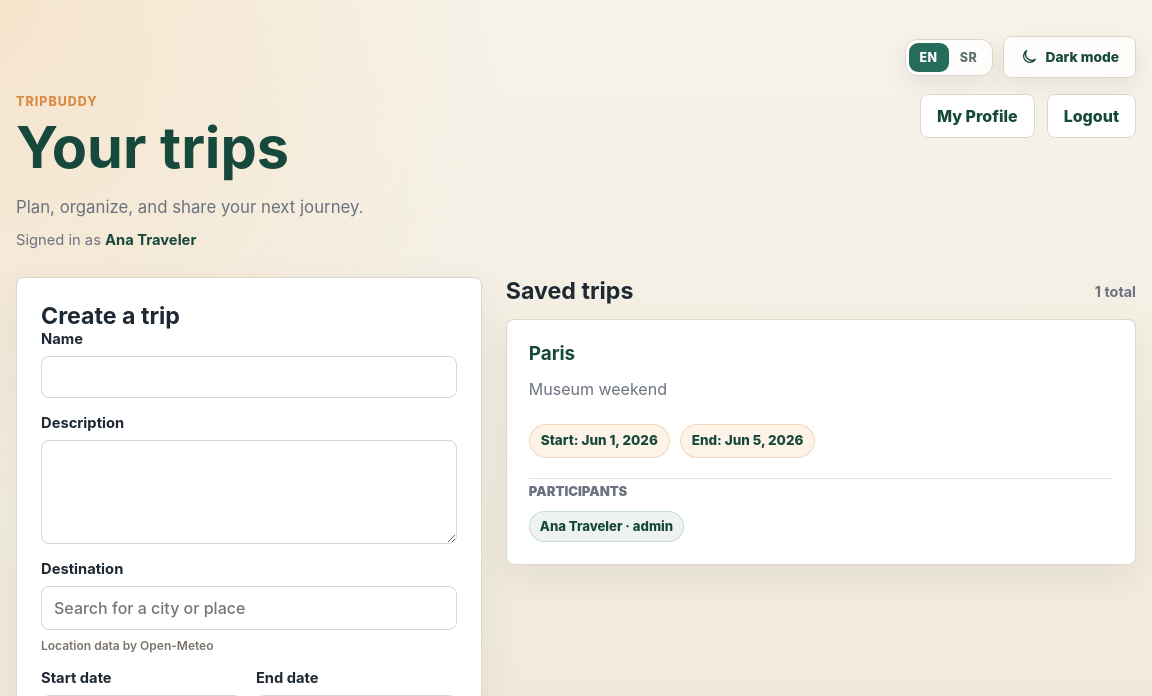
Test: TripBuddy frontend › shows an error when an owner delete fails
This screenshot has width=1152, height=696.
Click the button "Paris".
click(821, 442)  # box x1=506 y1=319 x2=1136 y2=565
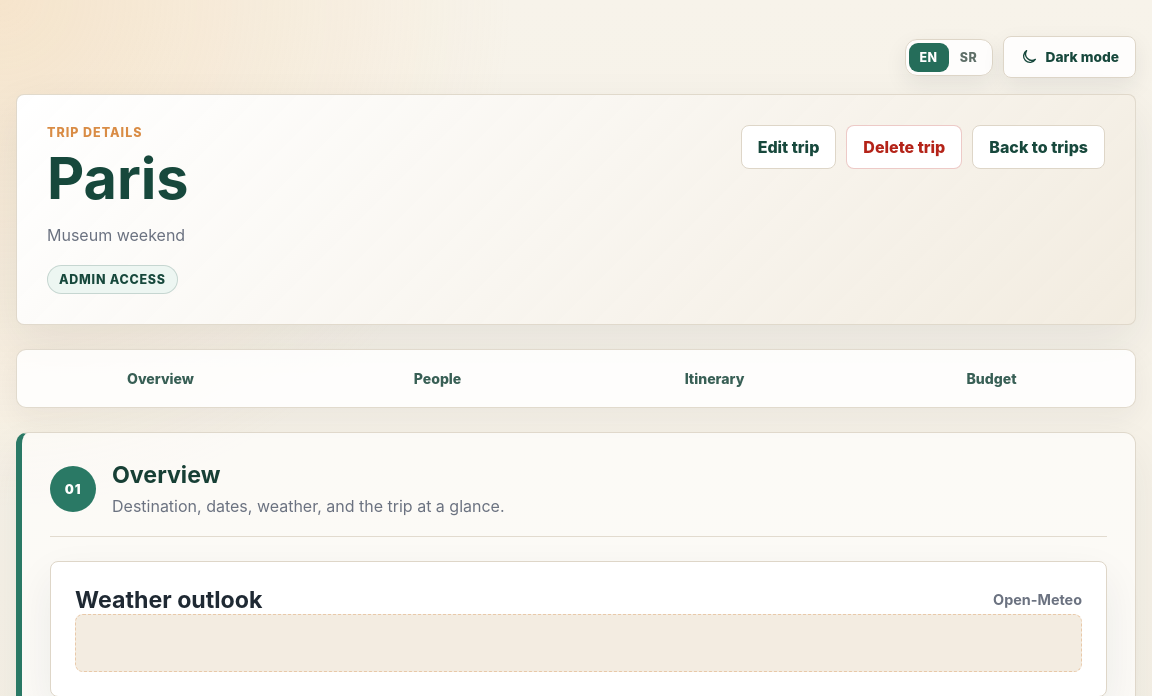
Click the button "Delete trip".
click(904, 147)  # box x1=846 y1=125 x2=962 y2=169
(page scrolled)
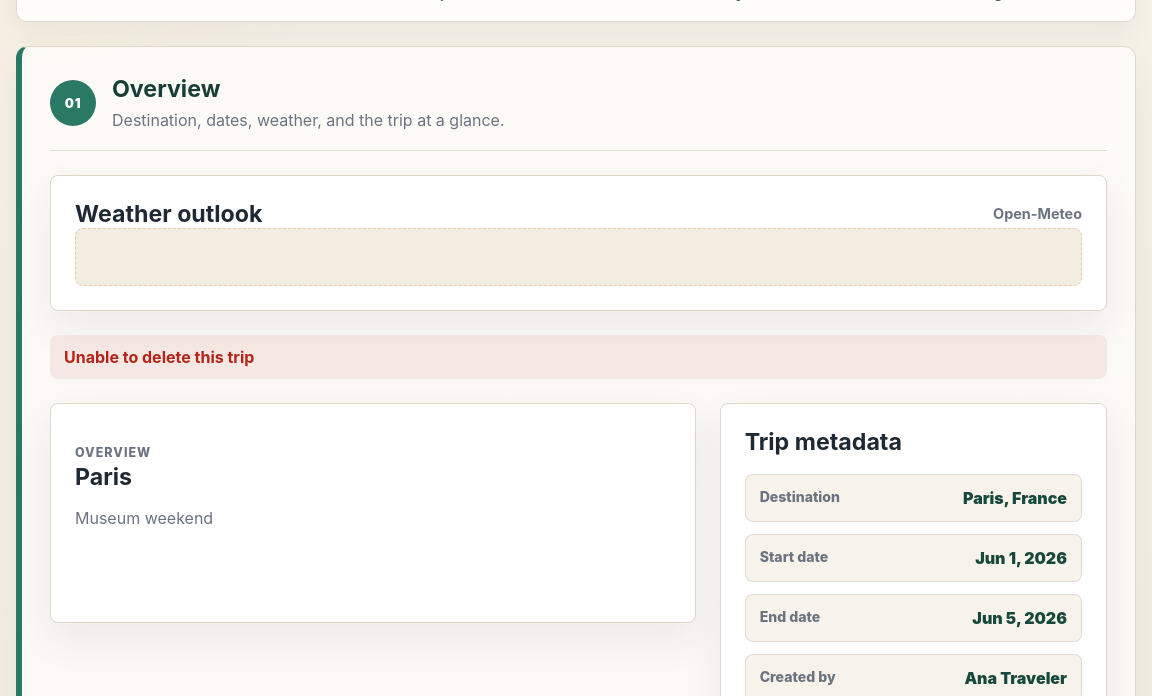
Result: the text "Unable to delete this trip" is shown at x1=50 y1=335 x2=1107 y2=379
